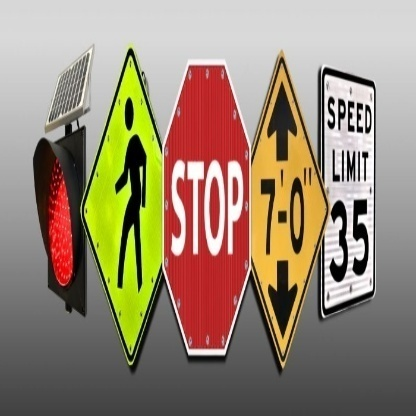stop: (162, 59, 251, 361)
